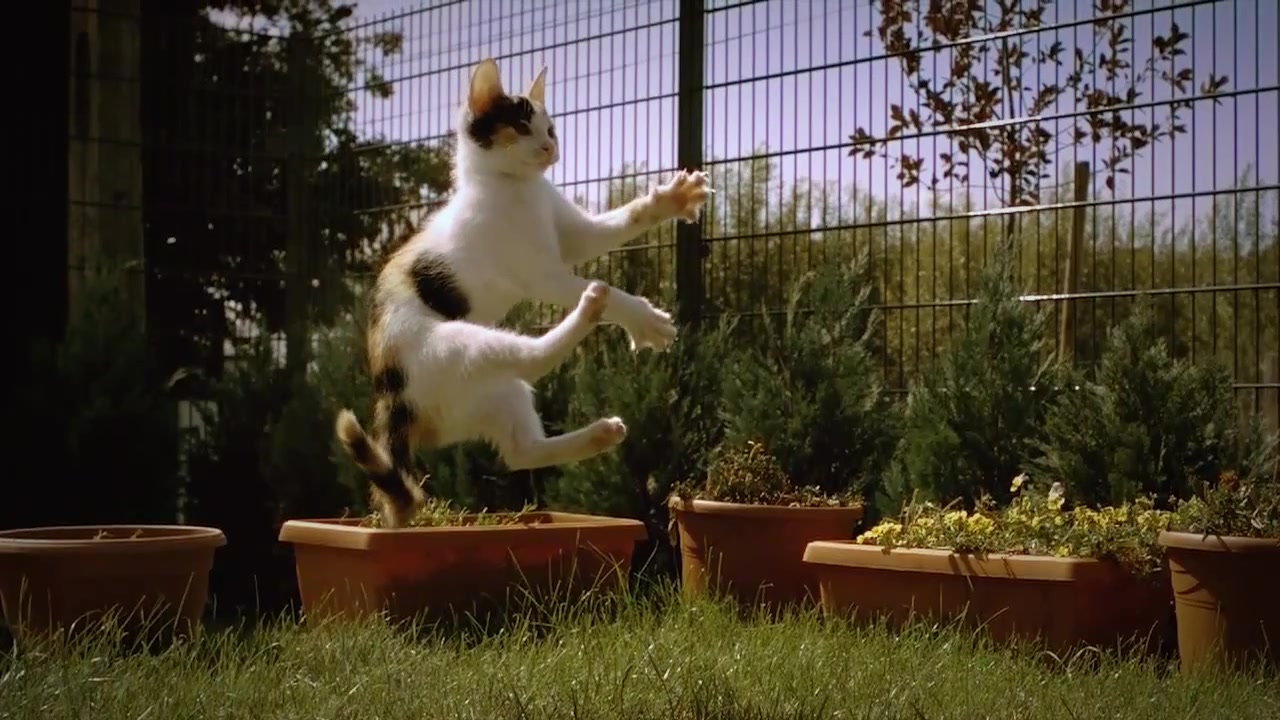cat: (333, 50, 715, 514)
